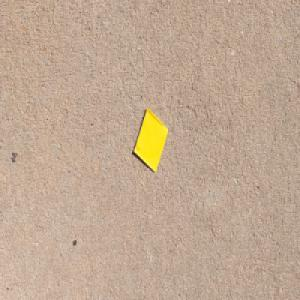PlasticPart: (132, 105, 168, 173)
